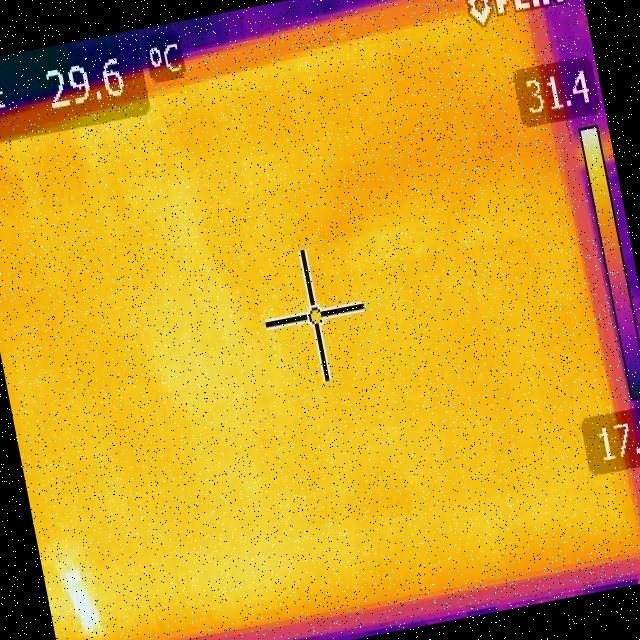Hotspot: (49, 548, 113, 640)
